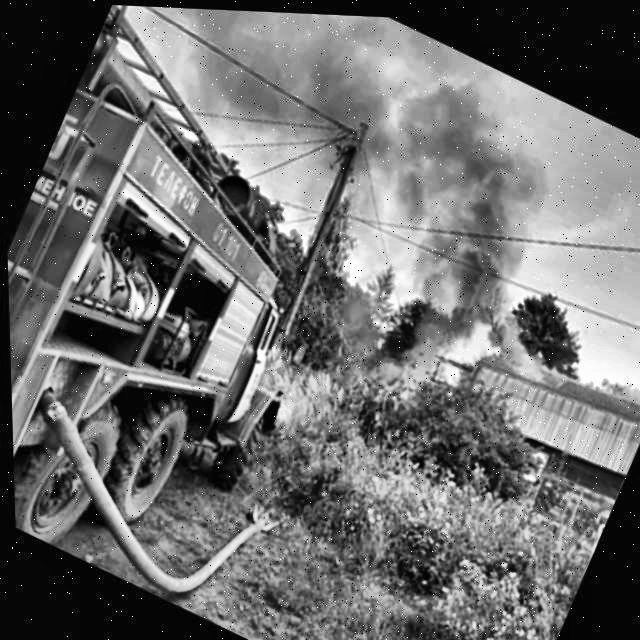Fire: (420, 242, 566, 398)
Smoke: (330, 34, 591, 351)
